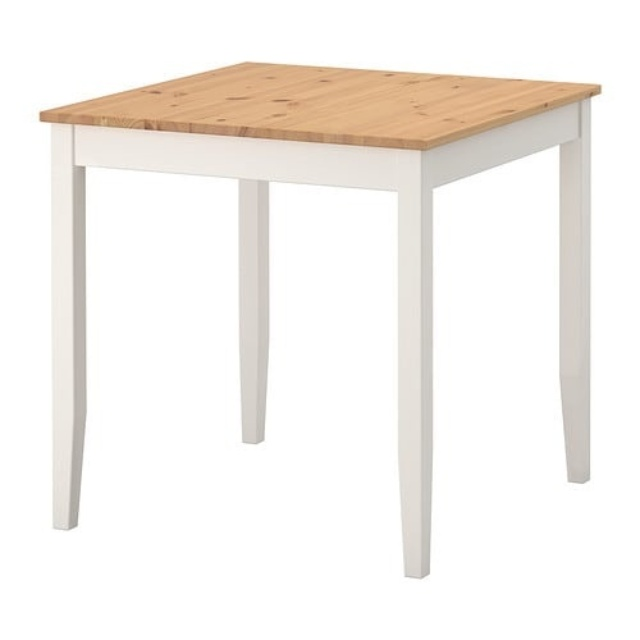obstacle: (41, 63, 599, 576)
